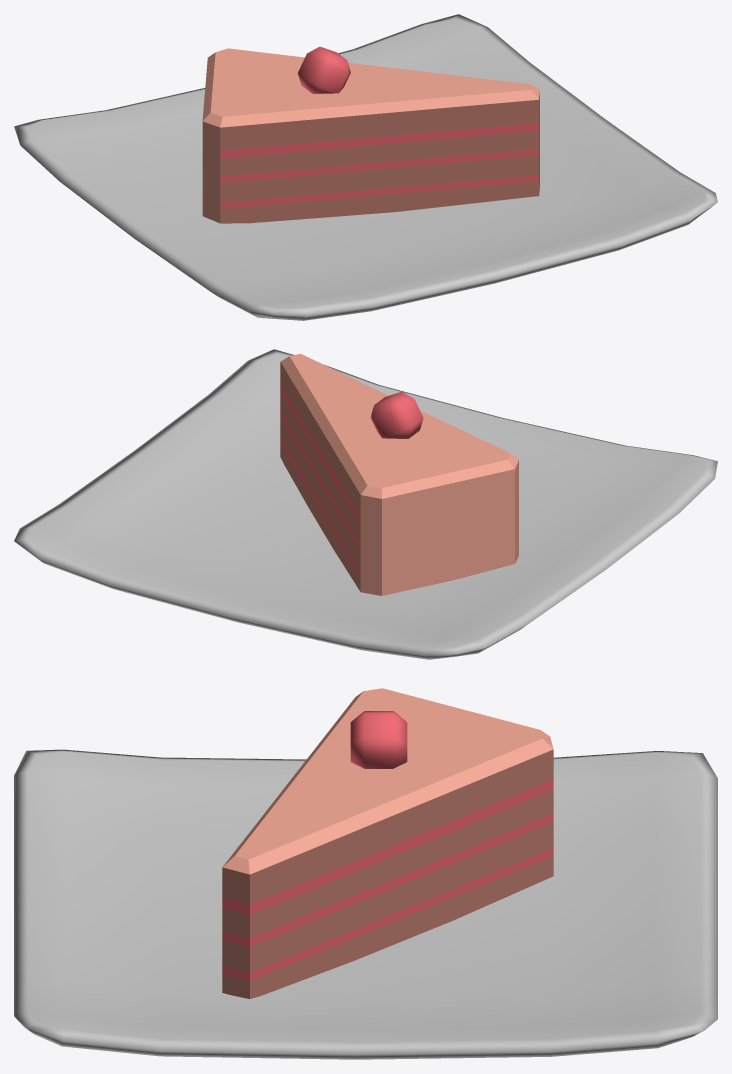
The model's file is Cake1.fbx.
The picture shows the model from 3 angles, top to bottom: view 1: azimuth 30°, elevation 25°; view 2: azimuth 150°, elevation 25°; view 3: azimuth 270°, elevation 25°; orthographic projection. The views are drawn at different scales.
Visible parts, largest first — view 1: Cake1; view 2: Cake1; view 3: Cake1.
Boxes of the visible parts, x1,y1,x2,y2 form: Cake1: [14, 14, 717, 320]; Cake1: [14, 349, 717, 659]; Cake1: [14, 688, 717, 1059].
Size of the model in its own units: 0.1549 by 0.0551 by 0.1538.
